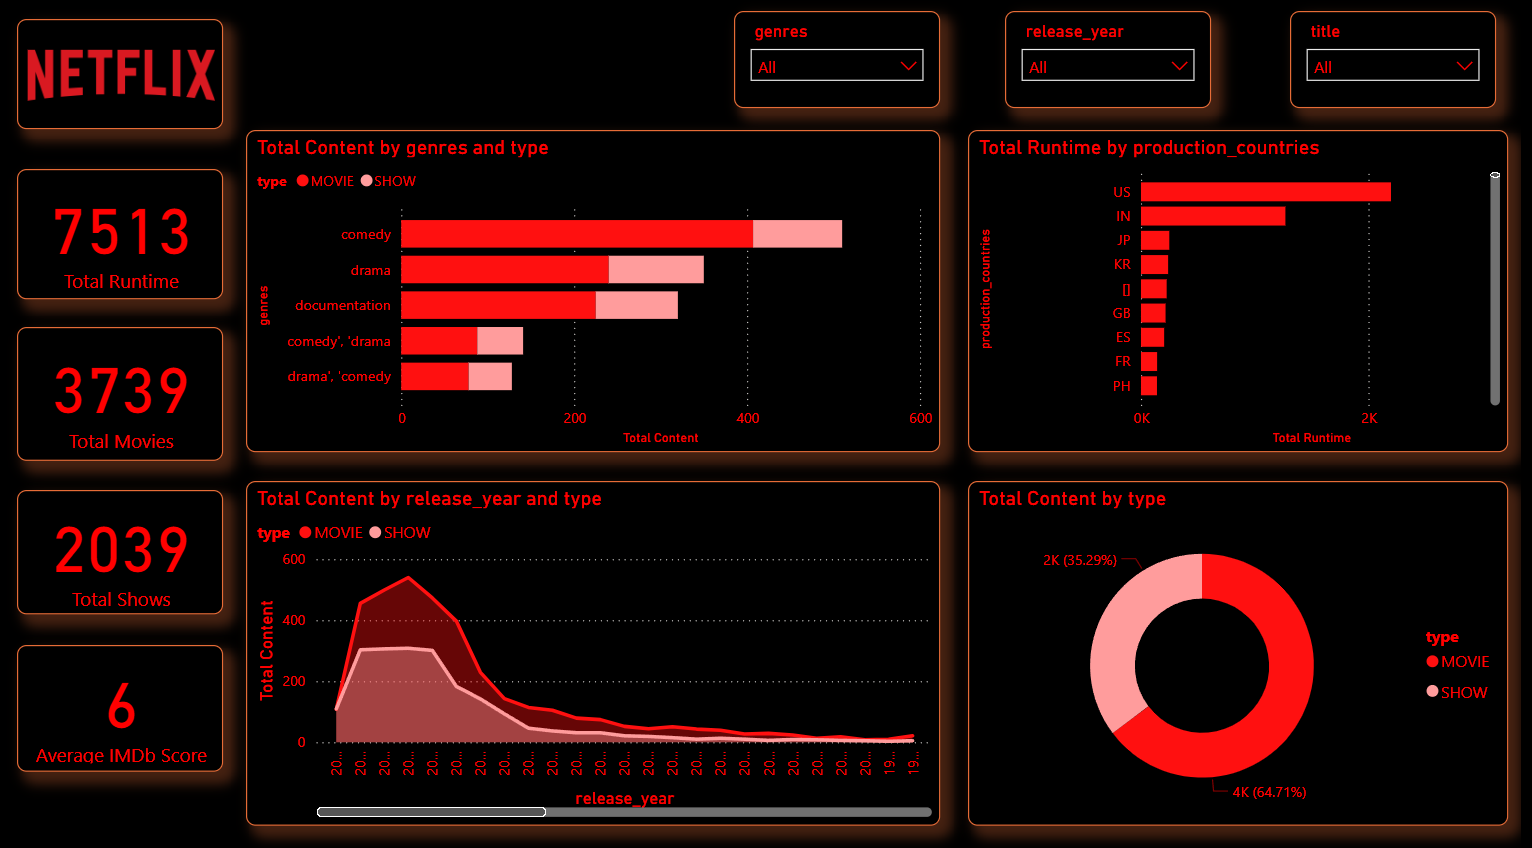

Layout of this report page (visuals, bound fields, positions):
{"tool":"powerbi","page":{"name":"Page 1","canvas":[1280,720],"ordinal":0},"visuals":[{"type":"barChart","fields":{"Category":["titles.genres"],"Y":["Table.Total Content"],"Series":["titles.type"]},"box":[193.4,111.5,585.9,272.5],"z":0},{"type":"card","fields":{"Values":["Table.Total Runtime"]},"box":[0,144.5,173.8,110],"z":1000},{"type":"areaChart","fields":{"Category":["titles.release_year"],"Y":["Table.Total Content"],"Series":["titles.type"]},"box":[193.4,408,585.9,290.8],"z":2000},{"type":"clusteredBarChart","fields":{"Category":["titles.production_countries"],"Y":["Table.Total Runtime"]},"box":[803.3,111.5,456,272.5],"z":3000},{"type":"donutChart","fields":{"Category":["titles.type"],"Y":["Table.Total Content"]},"box":[803.3,408,456,290.8],"z":4000},{"type":"card","fields":{"Values":["Table.Total Movies"]},"box":[0,278.4,173.8,112.6],"z":5000},{"type":"card","fields":{"Values":["Table.Total Shows"]},"box":[0,415.9,173.8,104.6],"z":6000},{"type":"card","fields":{"Values":["Table.Average IMDb Score"]},"box":[0,546.2,173.8,107.3],"z":7000},{"type":"slicer","fields":{"Values":["titles.genres"]},"box":[605.6,11.7,173.7,81.9],"z":8000},{"type":"slicer","fields":{"Values":["titles.release_year"]},"box":[834.4,11.7,173.7,81.9],"z":9000},{"type":"slicer","fields":{"Values":["titles.title"]},"box":[1074.3,11.7,173.7,81.9],"z":10000},{"type":"image","box":[0,18.4,173.7,93.2],"z":11000}]}

Visuals, with their boxes in screenshot pixels (x1, y1, x2, y2), scaled from the page's 1280x720 canvas onto the 1532x848 screenshot:
barChart - titles.genres x Table.Total Content: 231:131:933:452
card - Table.Total Runtime: 0:170:208:300
areaChart - titles.release_year x Table.Total Content: 231:481:933:823
clusteredBarChart - titles.production_countries x Table.Total Runtime: 961:131:1507:452
donutChart - titles.type x Table.Total Content: 961:481:1507:823
card - Table.Total Movies: 0:328:208:461
card - Table.Total Shows: 0:490:208:613
card - Table.Average IMDb Score: 0:643:208:770
slicer - titles.genres: 725:14:933:110
slicer - titles.release_year: 999:14:1207:110
slicer - titles.title: 1286:14:1494:110
image: 0:22:208:131
